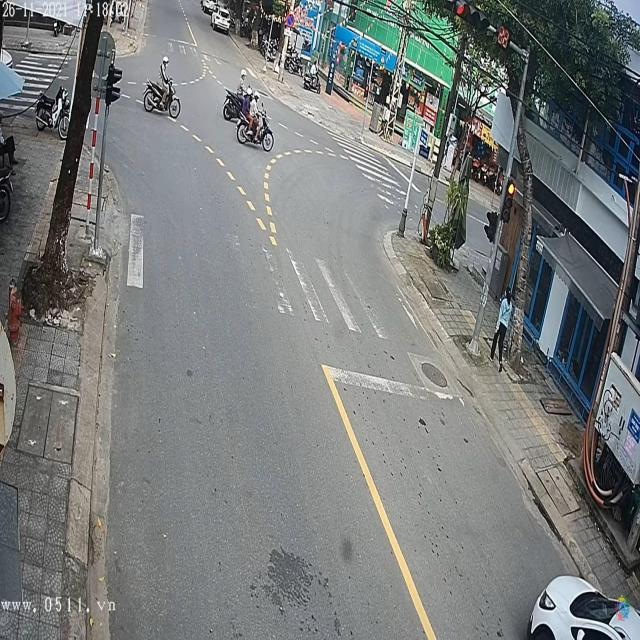car: (527, 576, 637, 640), (200, 2, 218, 15)
motorcycle: (235, 107, 275, 151), (143, 75, 180, 122)
